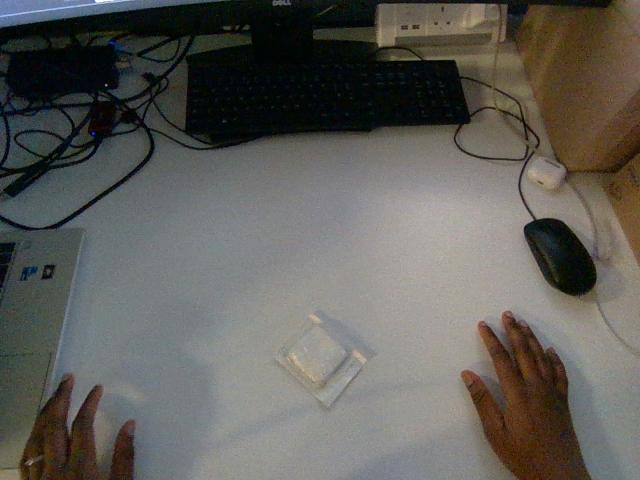gauze: (276, 312, 366, 407)
